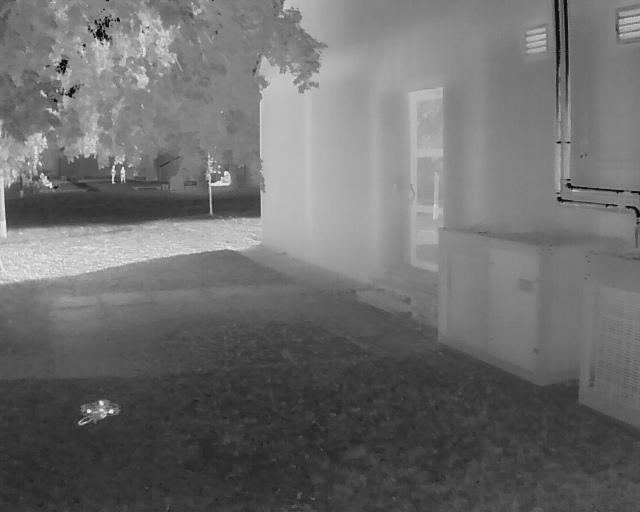drone: (69, 391, 127, 434)
